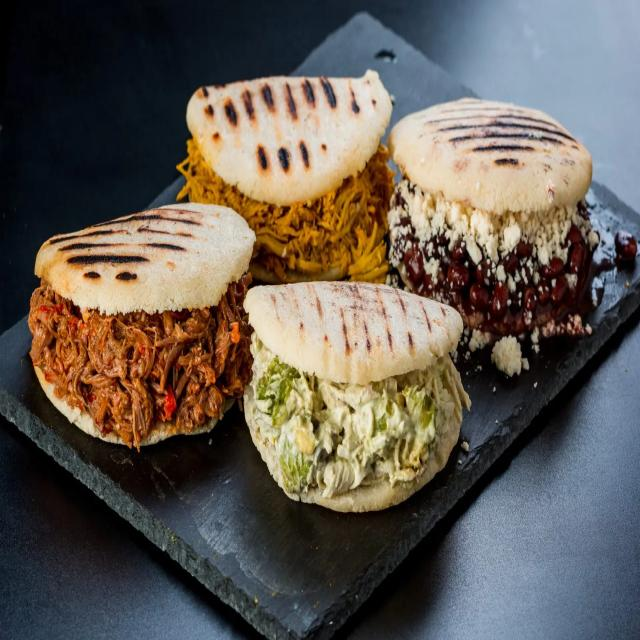arepa: (186, 58, 392, 203)
